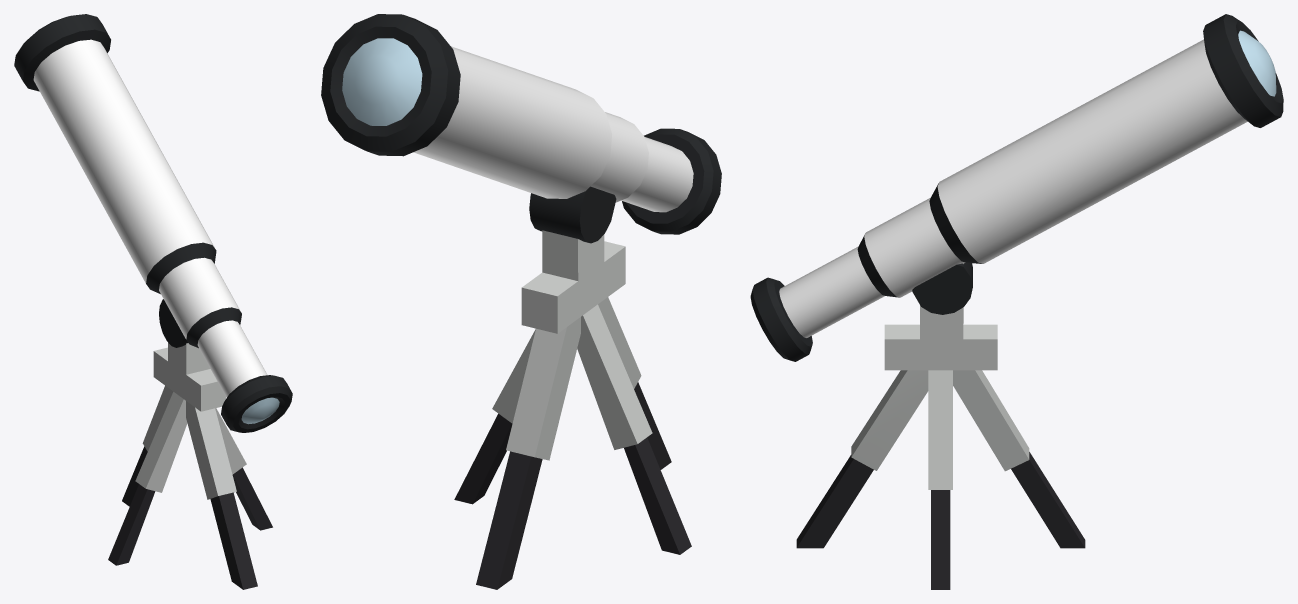
File: telescope.fbx
3 views of the same model, side by side, from view 1: azimuth 30°, elevation 25°; view 2: azimuth 150°, elevation 25°; view 3: azimuth 270°, elevation 25° (orthographic). The views are drawn at different scales.
Parts seen in each view (by area): view 1: telescope; view 2: telescope; view 3: telescope.
Part boxes in pixels (box(x1,y1,x2,y2)): telescope: box(14, 14, 292, 589); telescope: box(321, 14, 721, 589); telescope: box(750, 14, 1283, 589).
Size of the model in its own units: 2.33 by 6.26 by 5.77.
